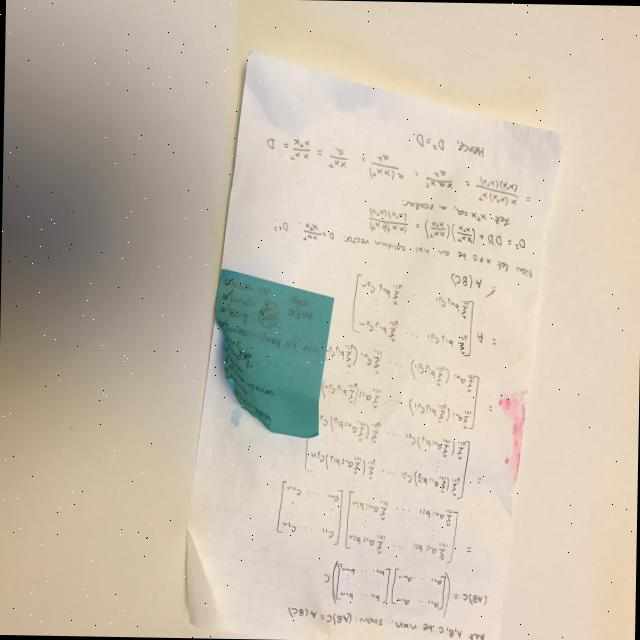paper: (183, 48, 565, 640)
